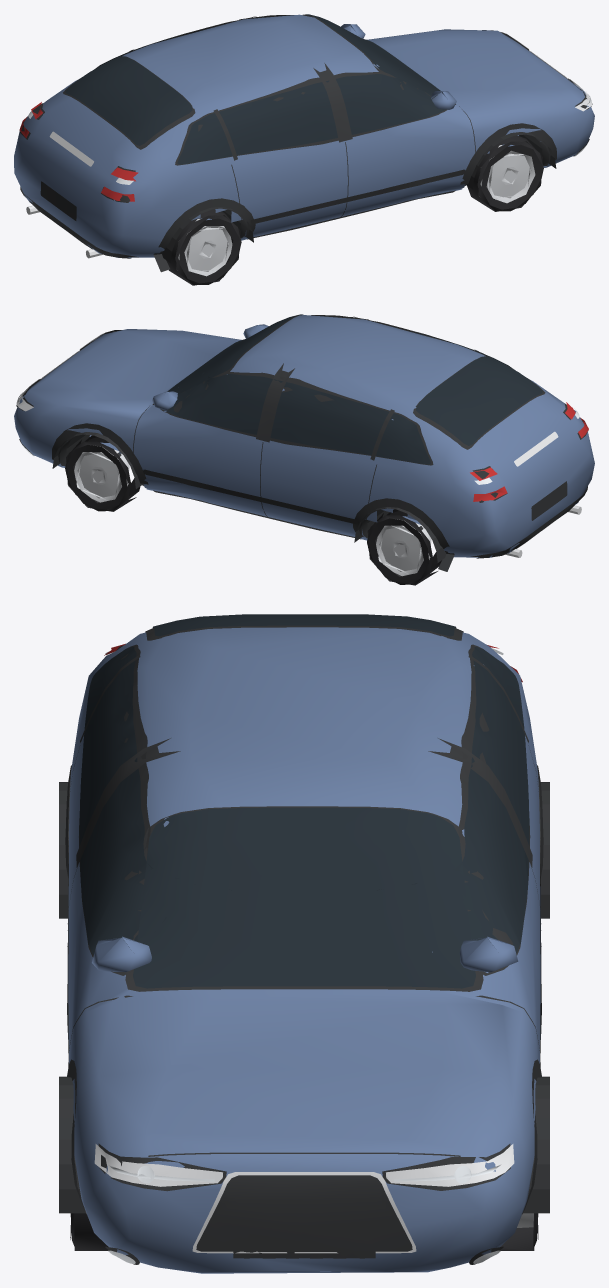
The model's file is aurore_far.glb.
3 renders of one model, top to bottom at view 1: azimuth 30°, elevation 25°; view 2: azimuth 150°, elevation 25°; view 3: azimuth 270°, elevation 25°, orthographic. The views are drawn at different scales.
Parts seen in each view (by area): view 1: Body, Glass-1, RearGlass, WheelFR, WheelRR, Windshield, WinFrame-1, ArchTrim-1.001, ArchTrim-1, Rub-1, Bpillar-1, TailLamp (+8 smaller); view 2: Body, Glass1, RearGlass, WheelFL, WheelRL, Windshield, WinFrame1, ArchTrim1.001, ArchTrim1, Rub1, Bpillar1, ArchLiner (+8 smaller); view 3: Body, Windshield, Glass-1, Glass1, Grille, HeadReflector, RearGlass, WsFrame, ArchLiner, ArchLiner.001, HeadBezel, WinFrame1 (+12 smaller).
Boxes of the visible parts, box(x1,y1,x2,y2) form: Body: box(14, 14, 594, 257); Glass-1: box(177, 74, 444, 164); RearGlass: box(65, 56, 192, 145); WheelFR: box(467, 135, 543, 211); WheelRR: box(166, 209, 241, 285); Windshield: box(305, 14, 440, 96); WinFrame-1: box(175, 72, 447, 165); ArchTrim-1.001: box(153, 198, 255, 272); ArchTrim-1: box(460, 123, 556, 185); Rub-1: box(250, 169, 465, 224); Bpillar-1: box(313, 63, 352, 142); TailLamp: box(19, 102, 138, 201); Body: box(14, 314, 594, 557); Glass1: box(166, 373, 430, 464); RearGlass: box(416, 356, 542, 445); WheelFL: box(65, 435, 140, 511); WheelRL: box(367, 509, 441, 585); Windshield: box(167, 314, 303, 394); WinFrame1: box(160, 372, 433, 465); ArchTrim1.001: box(353, 498, 454, 571); ArchTrim1: box(52, 423, 148, 485); Rub1: box(143, 469, 357, 524); Bpillar1: box(256, 363, 294, 442); ArchLiner: box(52, 432, 142, 489); Body: box(68, 627, 540, 1273); Windshield: box(133, 807, 475, 988); Glass-1: box(79, 646, 231, 954); Glass1: box(377, 646, 529, 953); Grille: box(196, 1175, 412, 1251); HeadReflector: box(94, 1144, 514, 1186); RearGlass: box(152, 614, 456, 636); WsFrame: box(125, 806, 483, 991); ArchLiner: box(523, 1076, 549, 1213); ArchLiner.001: box(59, 1076, 85, 1213); HeadBezel: box(98, 1143, 510, 1191); WinFrame1: box(458, 644, 530, 975).
Size of the model in its own units: 4.32 by 1.44 by 1.86.
